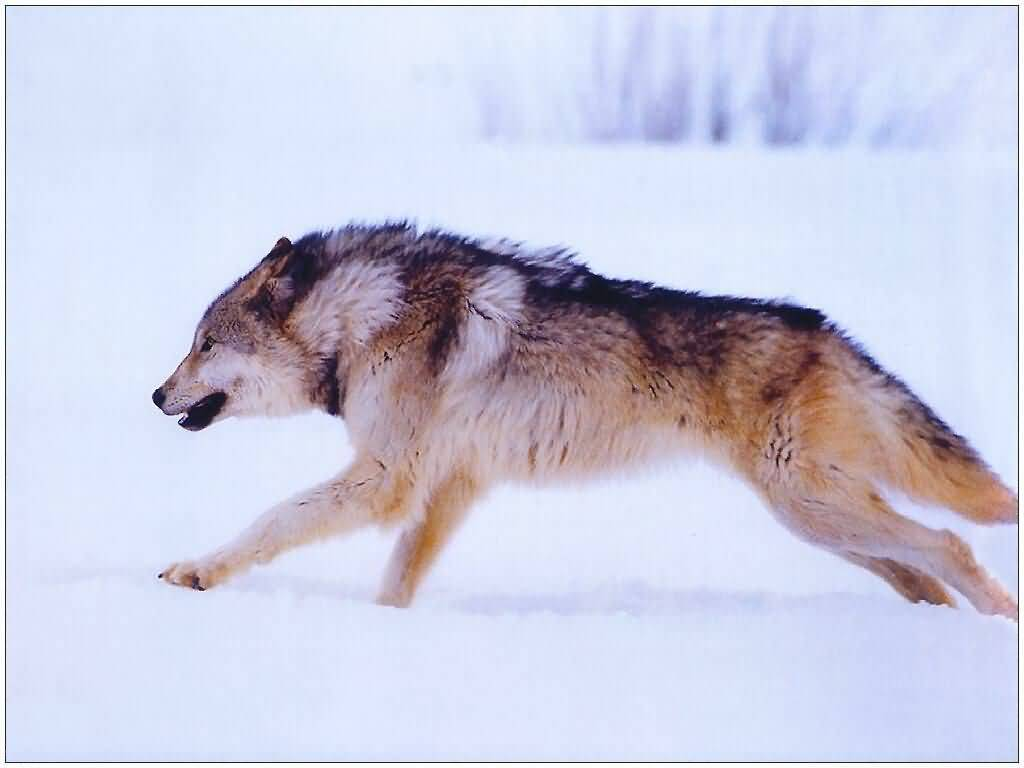wolf: (126, 183, 1024, 646)
